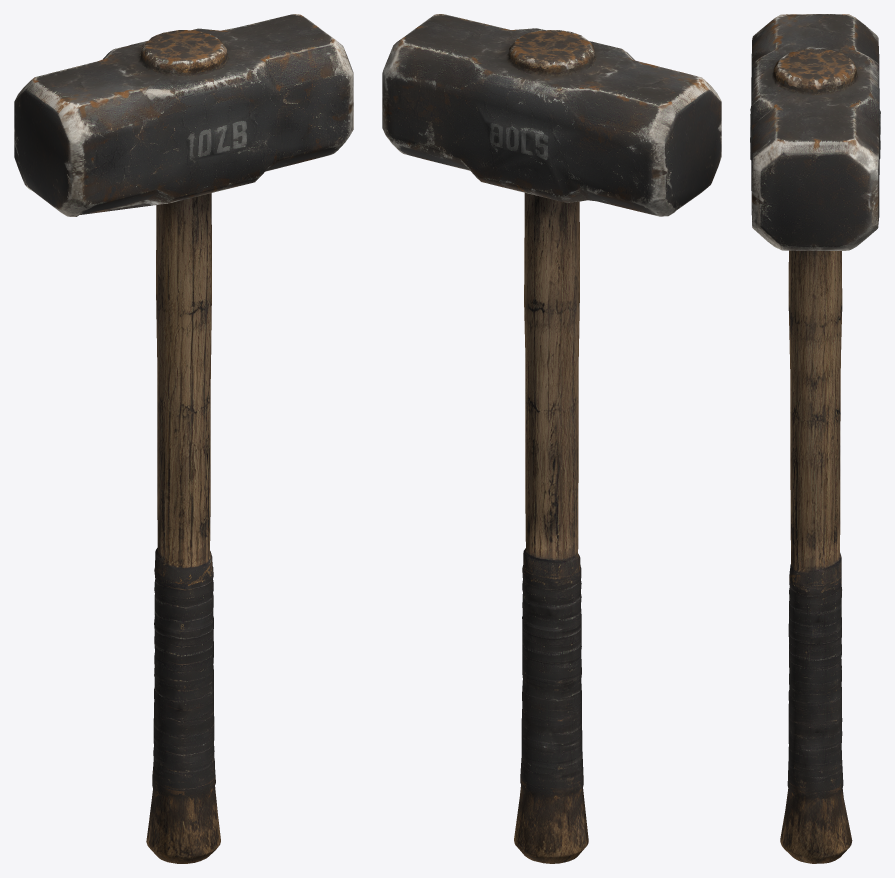
Rendered from SledgeHammer.fbx.
3 views of the same model, side by side, from view 1: azimuth 30°, elevation 25°; view 2: azimuth 150°, elevation 25°; view 3: azimuth 270°, elevation 25° (orthographic). The views are drawn at different scales.
Visible parts, largest first — view 1: Mesh_0; view 2: Mesh_0; view 3: Mesh_0.
Boxes of the visible parts, x1=… form: Mesh_0: x1=14, y1=14, x2=353, y2=863; Mesh_0: x1=382, y1=14, x2=721, y2=863; Mesh_0: x1=750, y1=14, x2=880, y2=863.
Size of the model in its own units: 70.73 by 191 by 28.72.
Materials: 1 (1 with a texture image).
